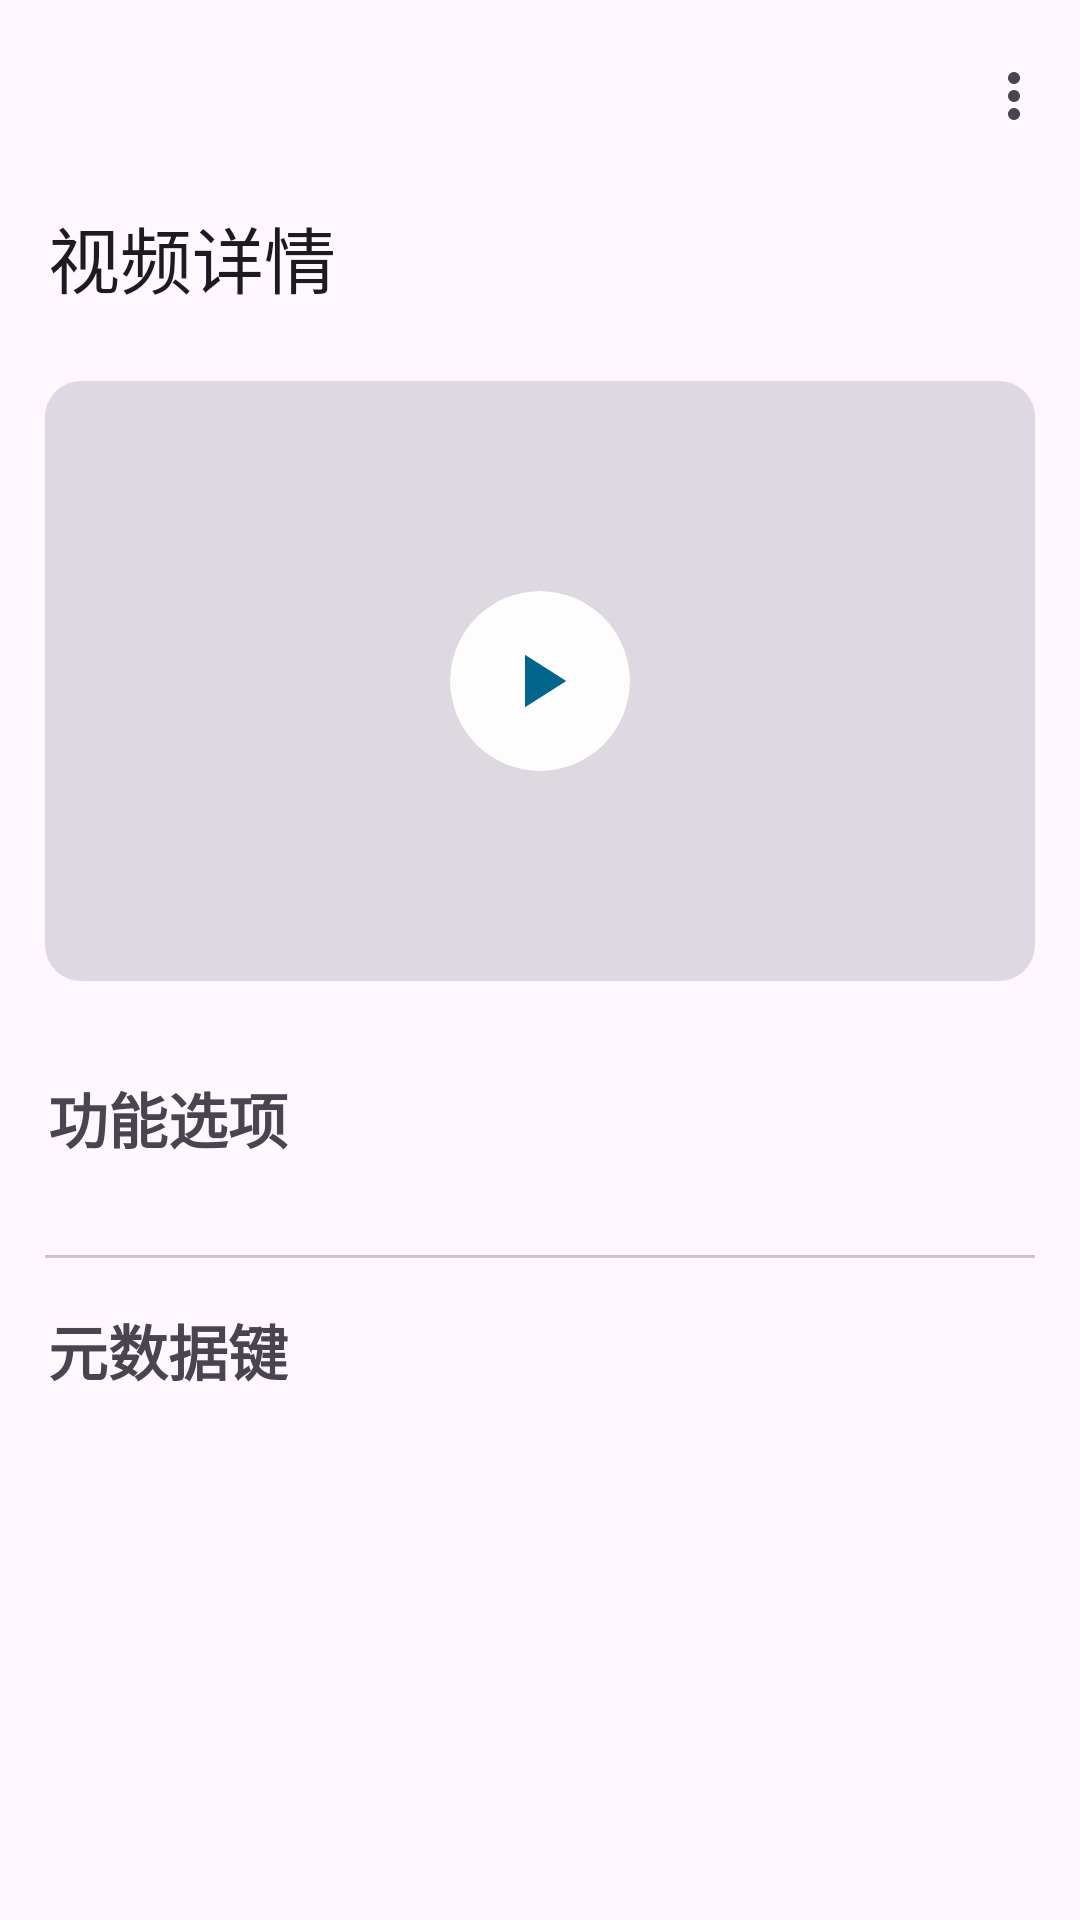

Where icons sit on this 1080px x 1920px app screen, as (x1, y1, x2, y2):
play arrow: (525, 655, 566, 707)
